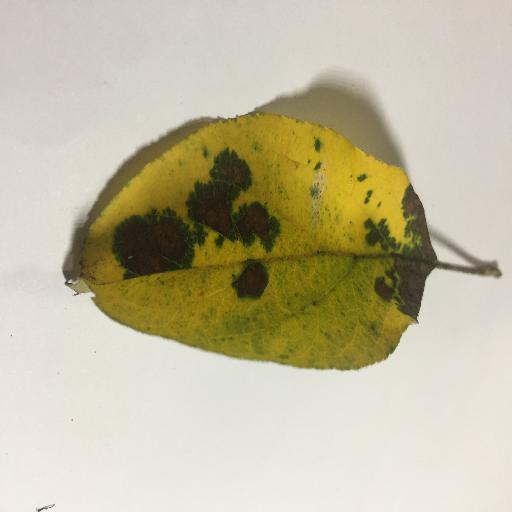Brown_Spot: (114, 228, 185, 265), (387, 261, 431, 306), (397, 200, 435, 251), (191, 189, 231, 225), (223, 265, 269, 295), (225, 213, 273, 236), (218, 163, 250, 193)
